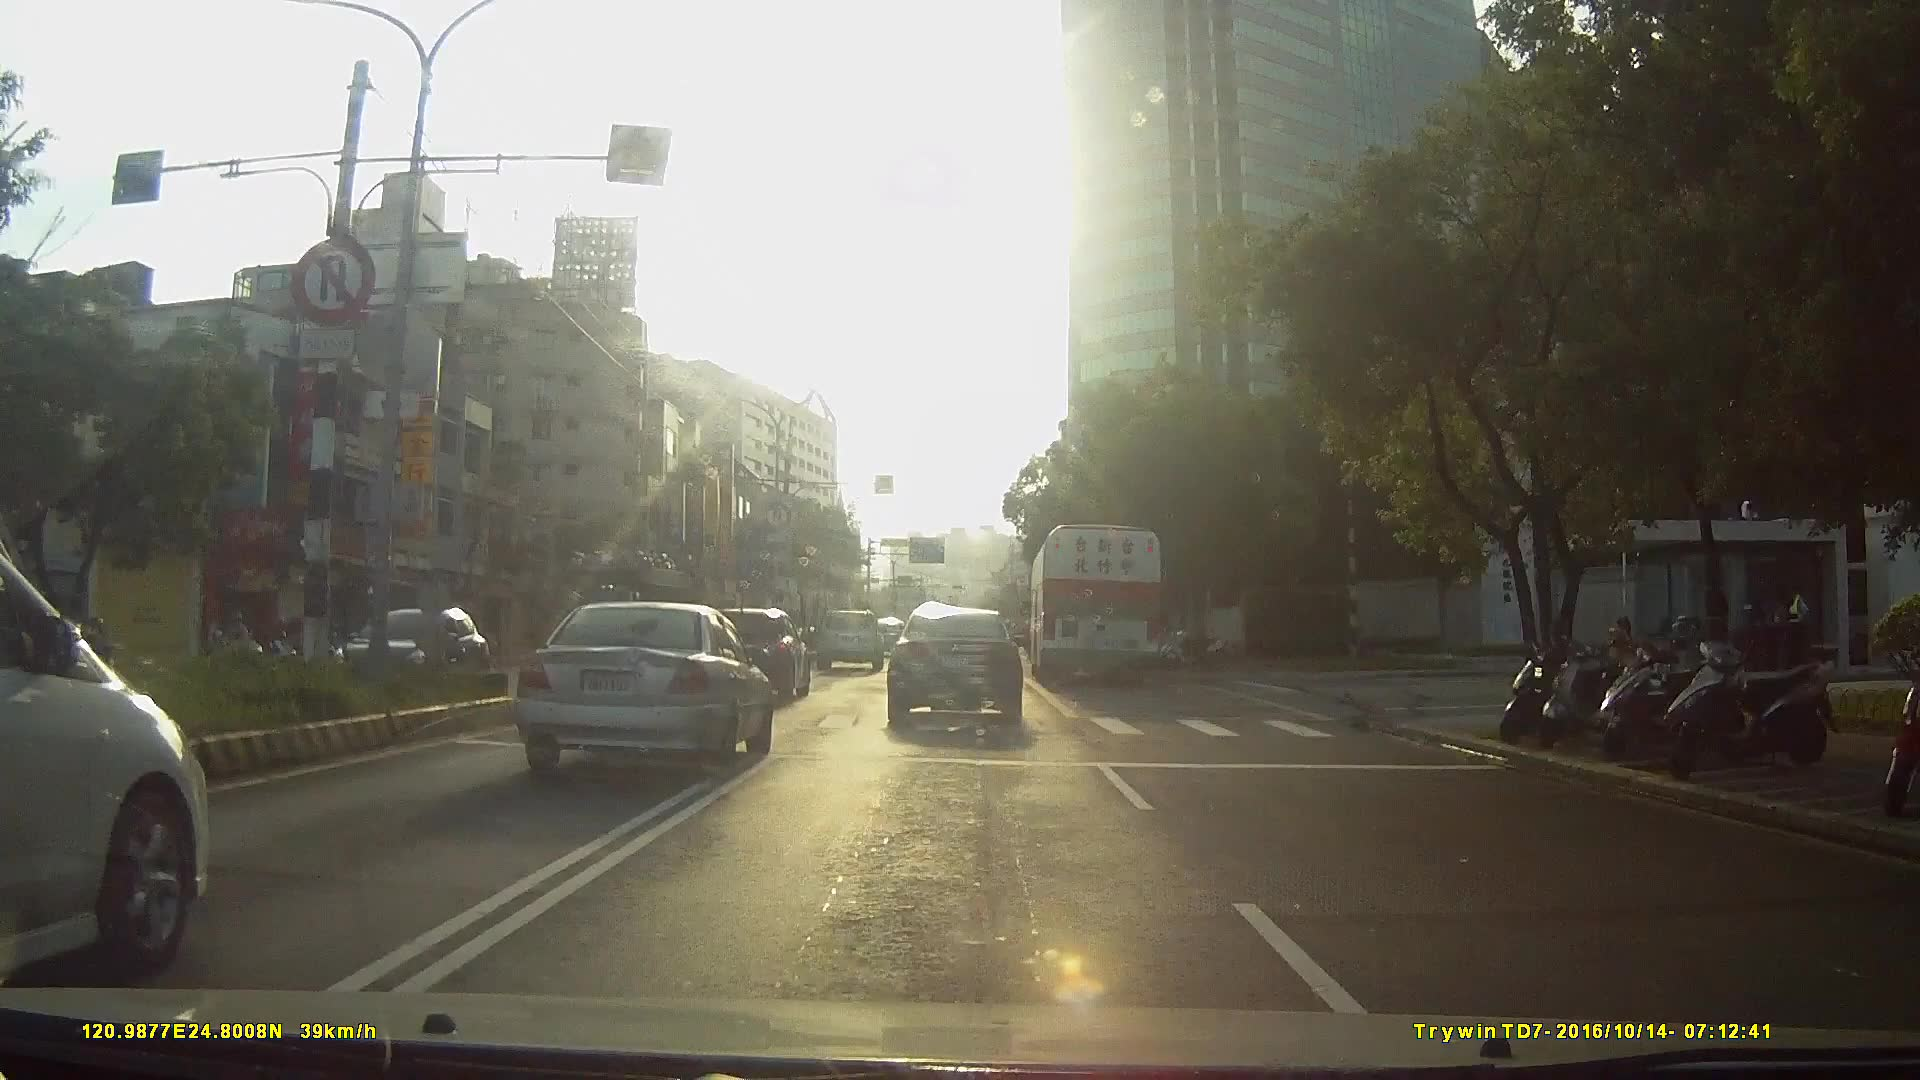vehicle: (1, 541, 225, 986), (502, 600, 771, 782), (1026, 520, 1164, 691), (322, 603, 500, 694), (886, 604, 1025, 717), (695, 607, 808, 703), (815, 607, 884, 674)
